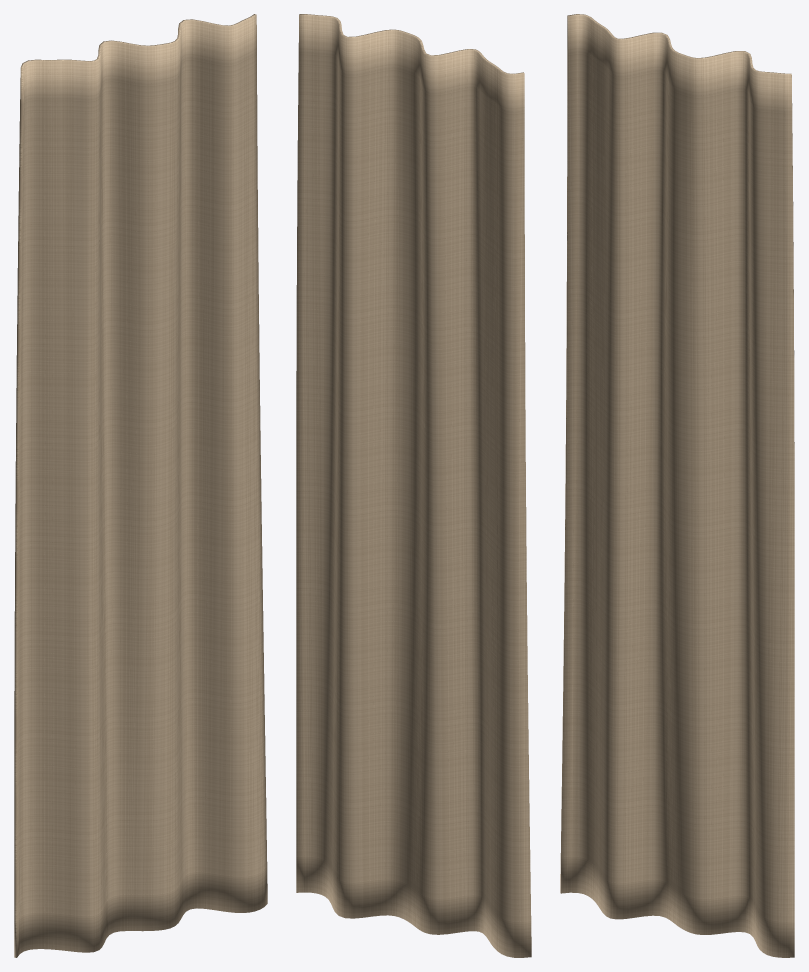
File: window_curtain.glb
3 renders of one model, left to right at view 1: azimuth 30°, elevation 25°; view 2: azimuth 150°, elevation 25°; view 3: azimuth 330°, elevation 25°, orthographic.
Visible parts, largest first — view 1: Window_Curtain; view 2: Window_Curtain; view 3: Window_Curtain.
Boxes of the visible parts, x1,y1,x2,y2 form: Window_Curtain: (14, 14, 267, 957); Window_Curtain: (296, 14, 531, 957); Window_Curtain: (560, 14, 794, 957).
Bounding box in the file's own units: 0.775 × 2.68 × 0.1258.
Materials: 1 (1 with a texture image).
